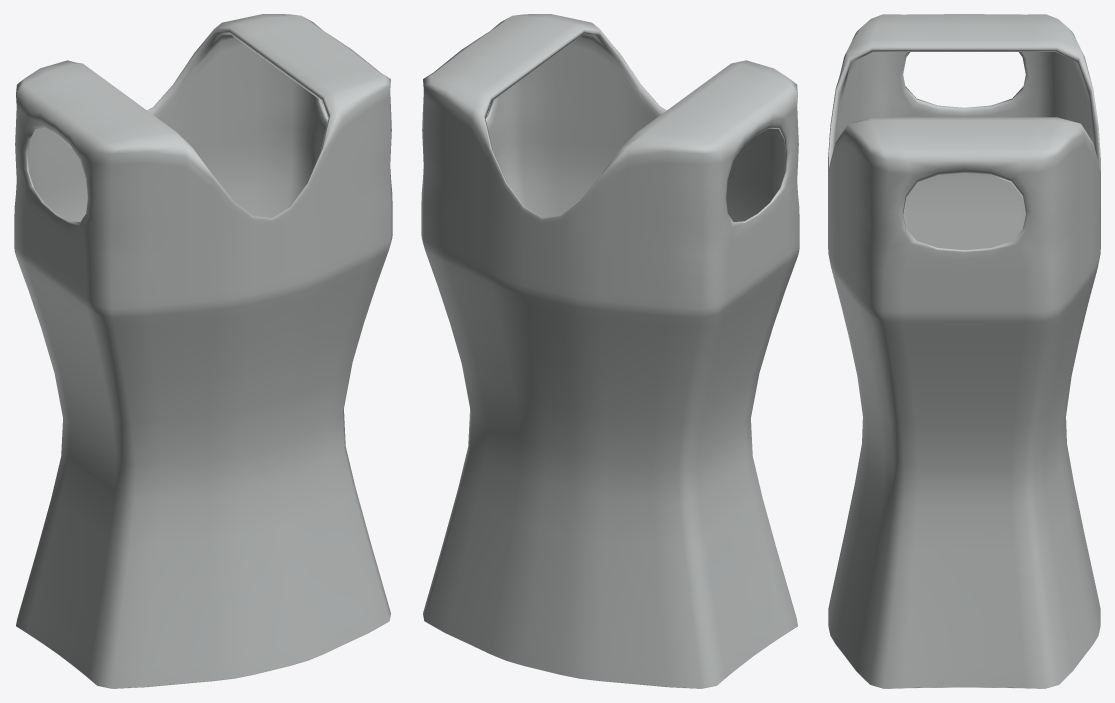
File: Chestplate.glb
3 views of the same model, side by side, from view 1: azimuth 30°, elevation 25°; view 2: azimuth 150°, elevation 25°; view 3: azimuth 270°, elevation 25° (orthographic).
Visible parts, largest first — view 1: Chestplate_geo; view 2: Chestplate_geo; view 3: Chestplate_geo.
Part boxes in pixels (x1,y1,x2,y2): Chestplate_geo: (14, 14, 392, 688); Chestplate_geo: (421, 14, 799, 688); Chestplate_geo: (828, 14, 1100, 688).
Size of the model in its own units: 3.7 by 6.46 by 2.96.
1 material, 1 textured.
